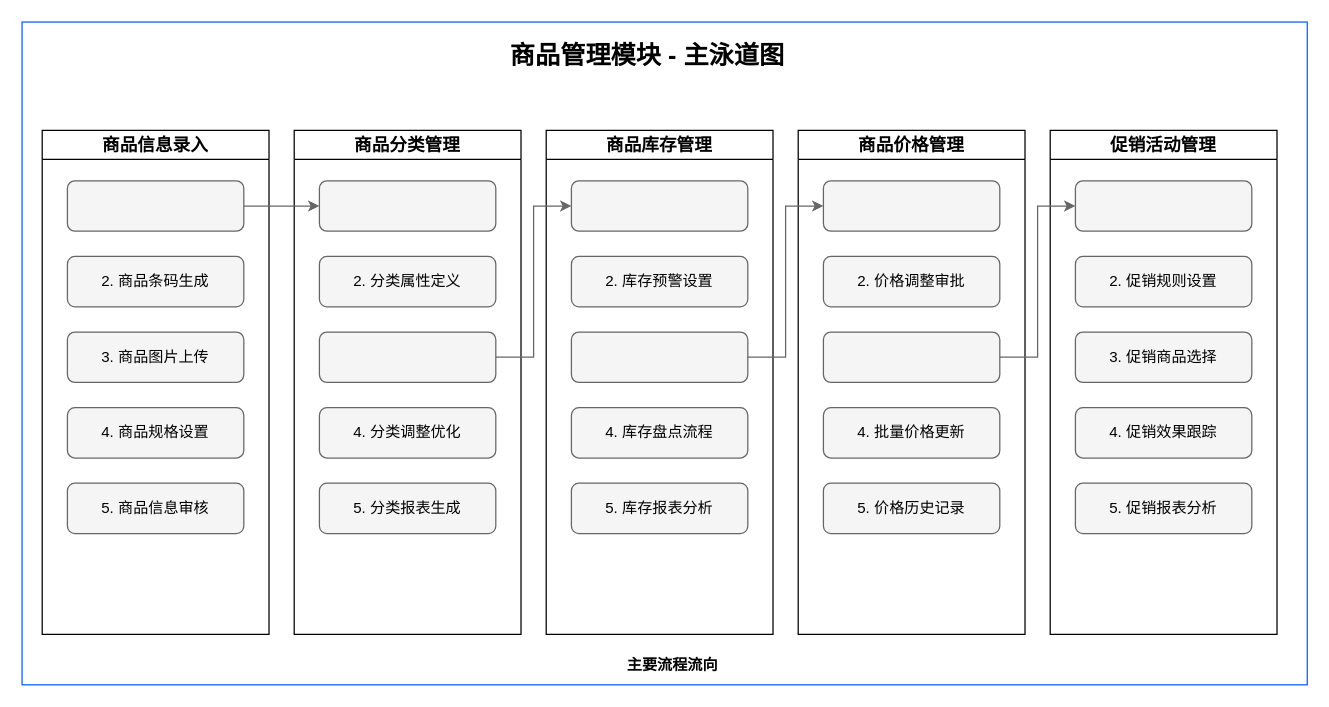
This 1329x707 diagram has some shape labels left out. Each missing label, with the centre of its shape:
1. 促销活动创建: the point at 1163,205
1. 分类体系建立: the point at 407,205
1. 商品基本信息录入: the point at 155,205
1. 基础价格设定: the point at 911,205
1. 库存数量监控: the point at 659,205
3. 会员价格策略: the point at 911,356
3. 商品分类分配: the point at 407,356
3. 库存调拨管理: the point at 659,356
